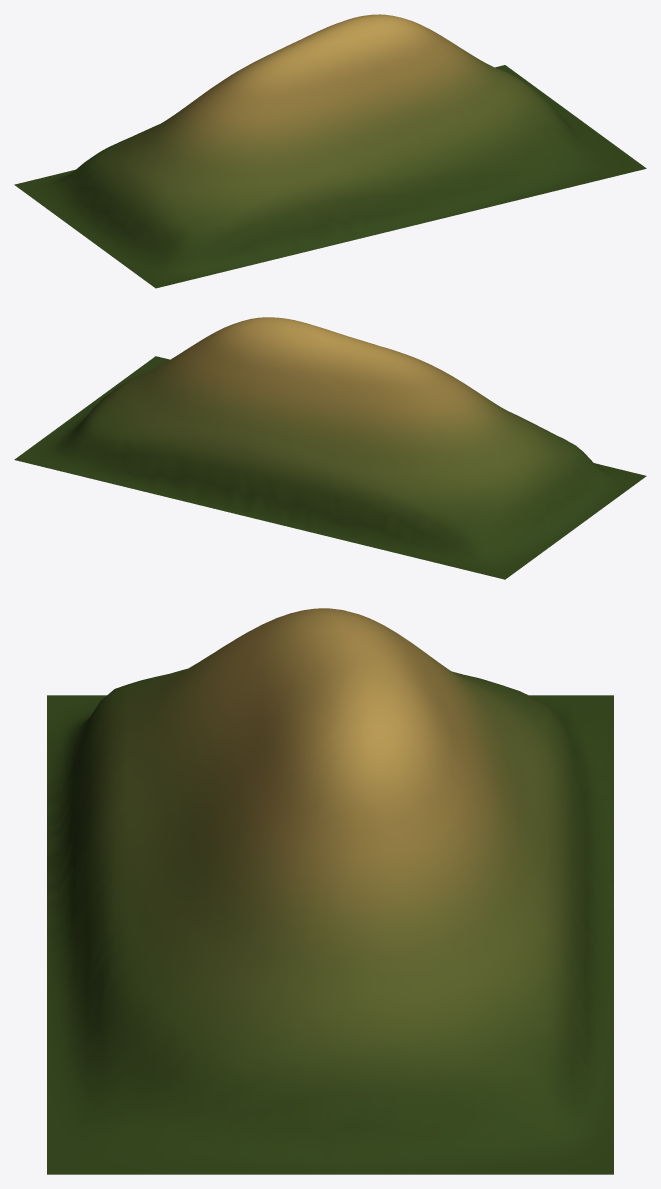
Rendered from Rolling_Large.fbx.
3 renders of one model, top to bottom at view 1: azimuth 30°, elevation 25°; view 2: azimuth 150°, elevation 25°; view 3: azimuth 270°, elevation 25°, orthographic. The views are drawn at different scales.
Parts seen in each view (by area): view 1: Rolling_Large; view 2: Rolling_Large; view 3: Rolling_Large.
Part boxes in pixels (x1=…): Rolling_Large: x1=14, y1=14, x2=646, y2=288; Rolling_Large: x1=14, y1=317, x2=646, y2=579; Rolling_Large: x1=47, y1=608, x2=613, y2=1174.
Bounding box in the file's own units: 3000 × 832 × 1500.
